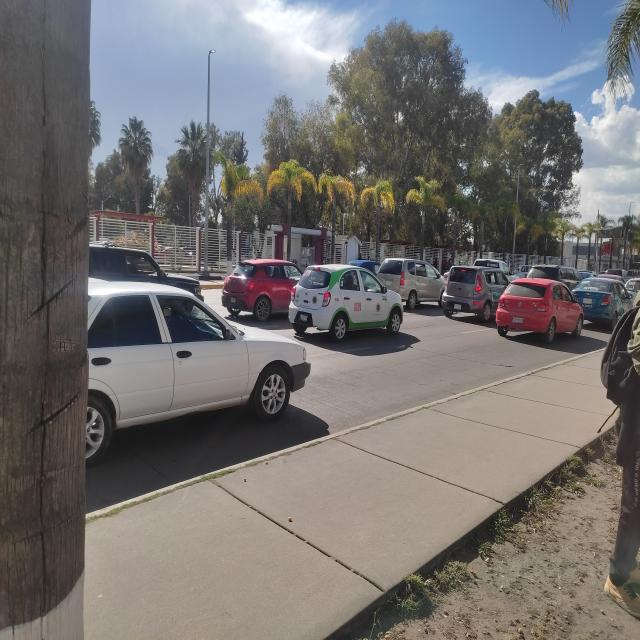3: (586, 245, 640, 627)
Auto: (72, 242, 334, 448), (290, 241, 410, 360), (487, 259, 591, 349), (213, 253, 311, 324), (376, 239, 444, 318), (560, 263, 631, 338), (443, 257, 506, 331)
